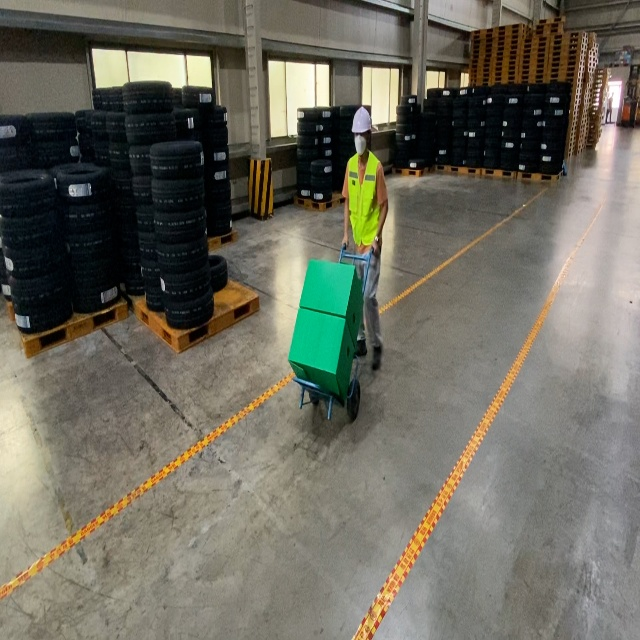Box: (288, 306, 355, 401), (299, 259, 364, 349)
Worker: (342, 107, 389, 369)
